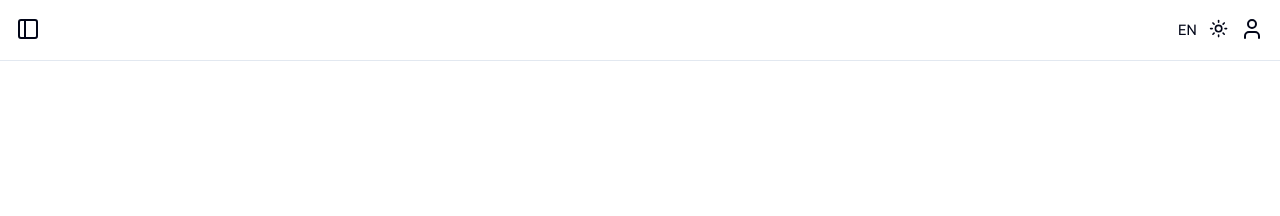
Navbar account menu › shows the signed-in user name and email
What coordinates should you click on to do the following:
click the button named "Account menu"
I would click on:
 (1252, 28)
Its box is [1240,16,1264,40].
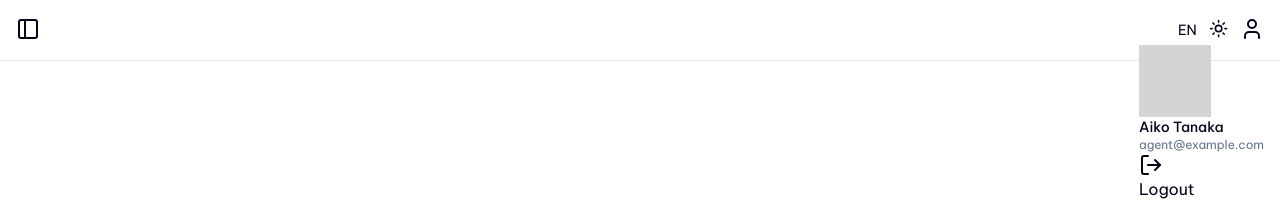
Now the text "Aiko Tanaka" is shown, box [1139,118,1224,136]
Now the text "agent@example.com" is shown, box [1139,137,1264,153]
